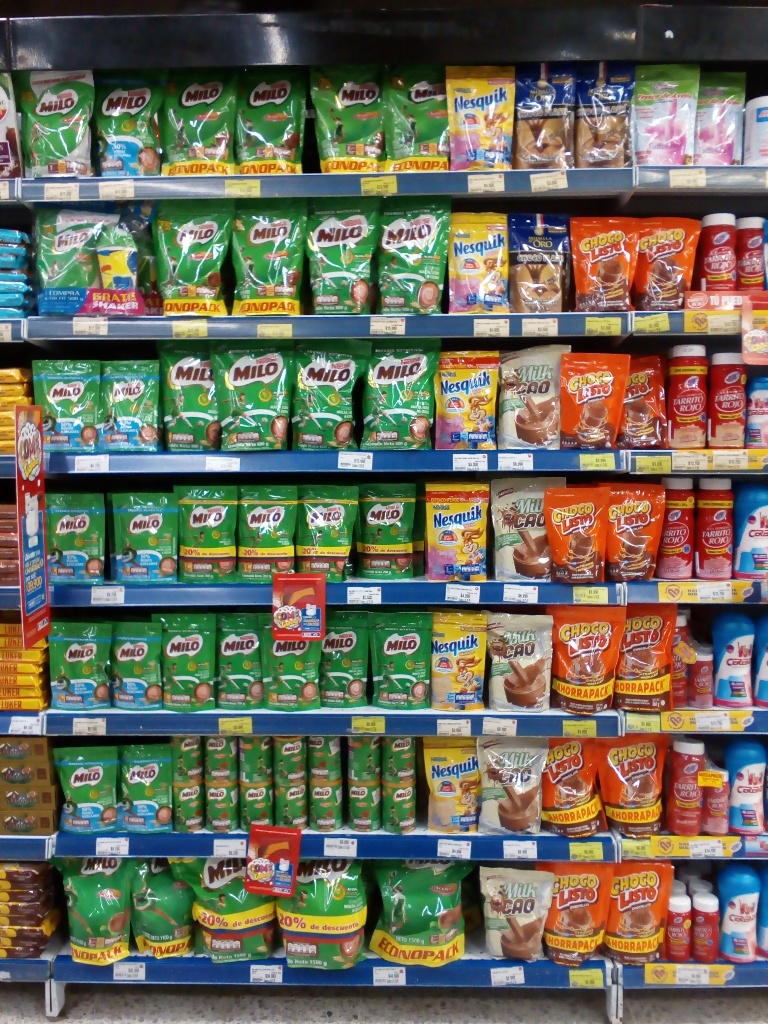COL0170103DYP20000: (566, 213, 639, 312)
COL0170103DYP36000: (545, 603, 611, 712)
COL0170103DYP44000: (536, 858, 608, 961)
COL0170203DYP25000: (12, 68, 96, 179)
COL0170203DYP50000: (154, 338, 224, 451)
COL0170203LAT20000: (170, 732, 205, 784)
COL0170205DYP20000: (92, 72, 167, 178)
COL0170305DYP20000: (444, 63, 516, 169)
COL0170306DYP20000: (423, 606, 488, 714)
